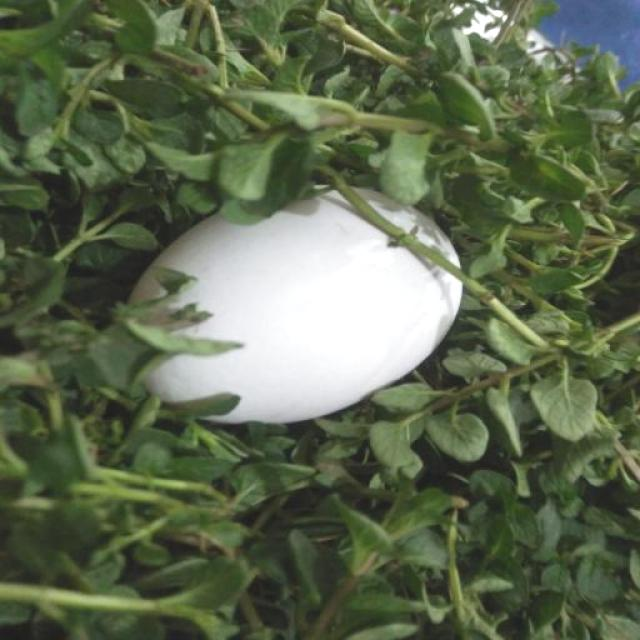telur: (99, 173, 476, 435)
